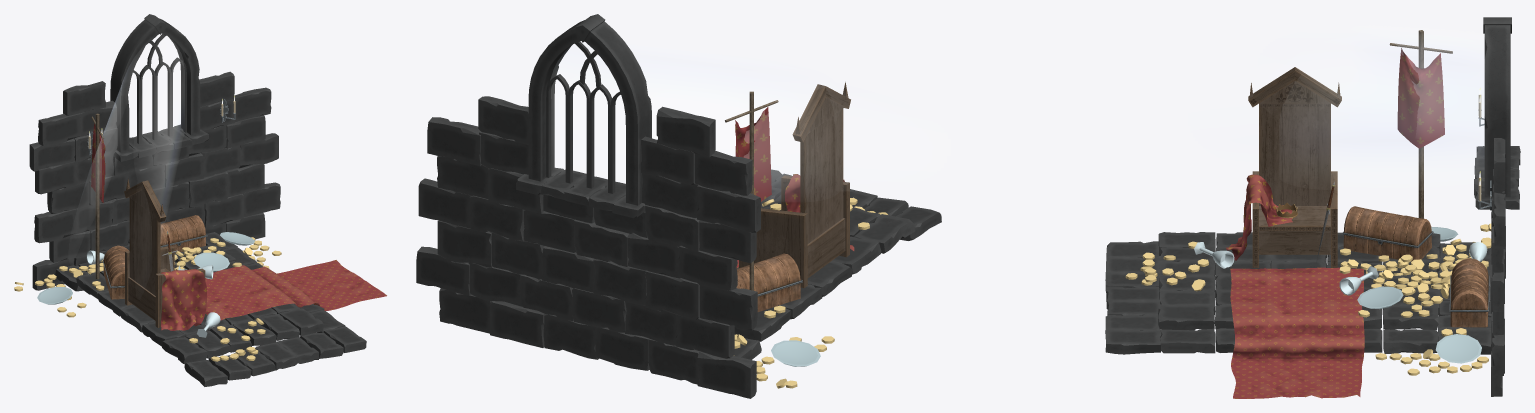
The picture shows the model from 3 angles, left to right: view 1: azimuth 30°, elevation 25°; view 2: azimuth 150°, elevation 25°; view 3: azimuth 270°, elevation 25°; orthographic projection. The views are drawn at different scales.
Visible parts, largest first — view 1: Throne_8; view 2: Throne_8; view 3: Throne_8.
Boxes of the visible parts, box(x1,y1,x2,y2) form: Throne_8: box(14, 14, 386, 386); Throne_8: box(416, 14, 941, 398); Throne_8: box(1105, 17, 1520, 398).
Size of the model in its own units: 428 by 280 by 336.
Materials: 9 (9 with a texture image).
